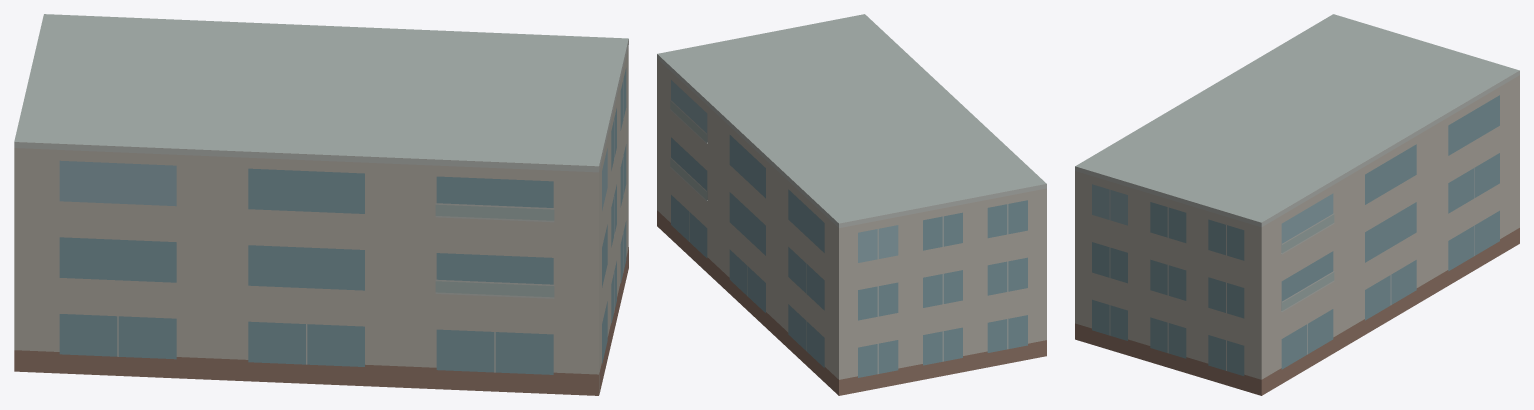
Rendered from survey-upis-32551049.glb.
3 renders of one model, left to right at view 1: azimuth 30°, elevation 25°; view 2: azimuth 150°, elevation 25°; view 3: azimuth 270°, elevation 25°, orthographic. The views are drawn at different scales.
Parts seen in each view (by area): view 1: survey-upis-32551049.tmp; view 2: survey-upis-32551049.tmp; view 3: survey-upis-32551049.tmp.
Part boxes in pixels (<box>): survey-upis-32551049.tmp: <box>14,14,628,395</box>; survey-upis-32551049.tmp: <box>657,14,1046,395</box>; survey-upis-32551049.tmp: <box>1075,14,1519,395</box>.
Size of the model in its own units: 23.66 by 9.15 by 21.31.
